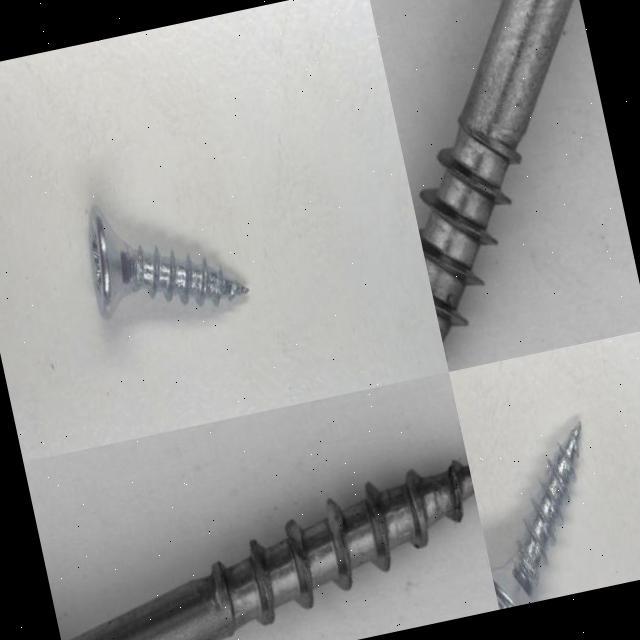Screw: (23, 371, 499, 640), (366, 0, 640, 371), (89, 206, 249, 320), (490, 422, 581, 609)
